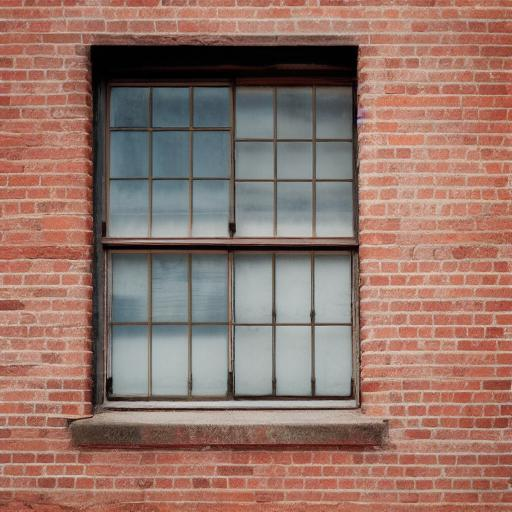Window: (68, 40, 389, 449)
